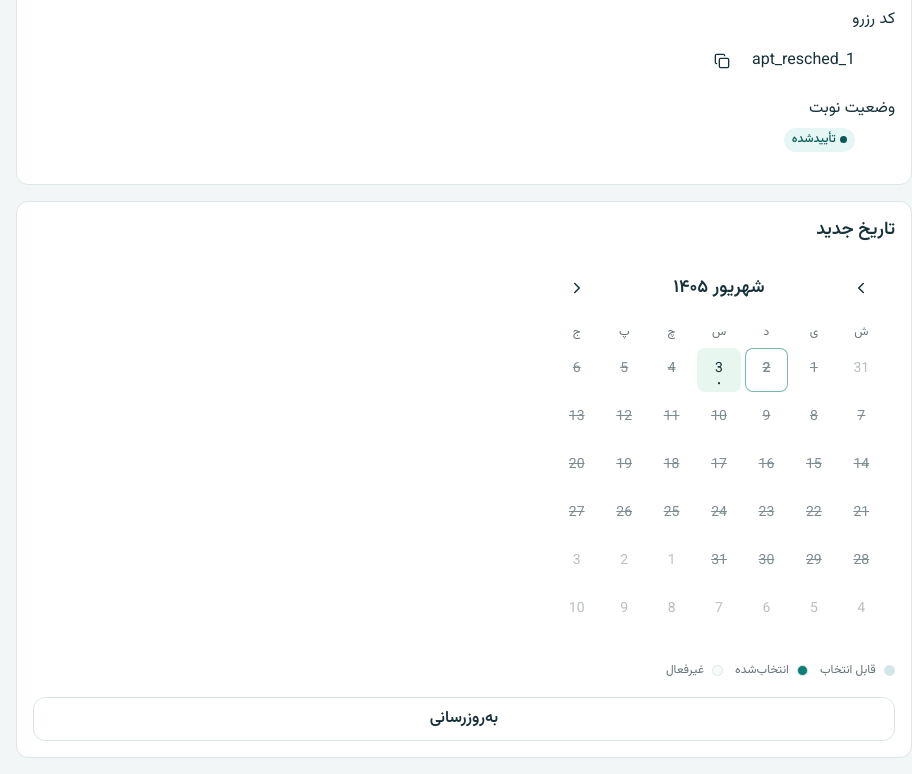
Test case: AppointmentRescheduleScreen › loads calendar and slots from reschedule availability endpoints
The image size is (912, 774).
(page scrolled)
Click the cell "3 •": point(719, 370) [697,348,741,392]
(page scrolled)
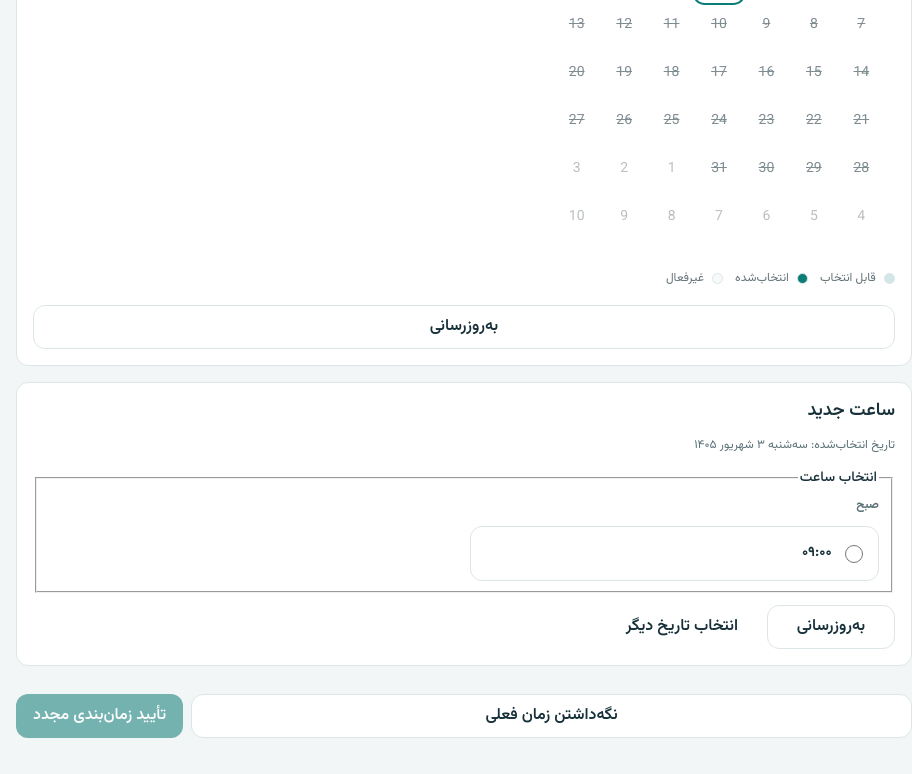
Expected: the radio button labelled "۰۹:۰۰" is shown
Click the radio button labelled "۰۹:۰۰": point(854, 554) [845,545,863,563]
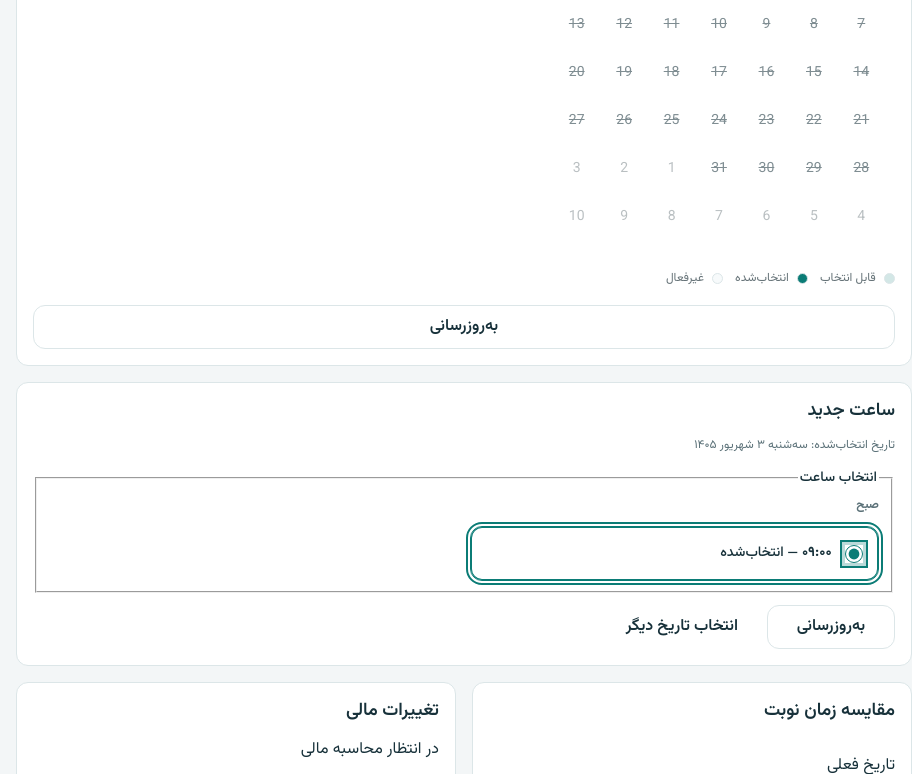
Expected: the heading "مقایسه زمان نوبت" is shown, [764,697,895,725]
